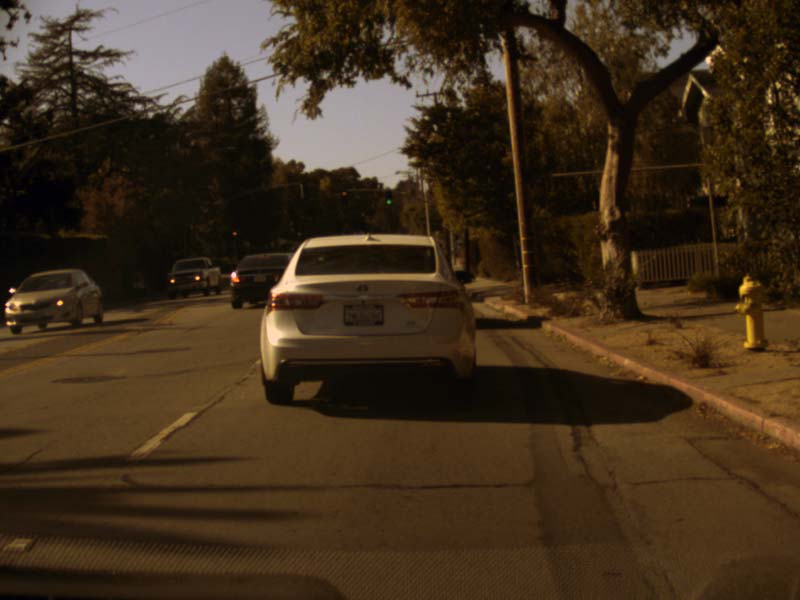Green: (384, 191, 392, 206)
Red: (340, 189, 349, 206), (231, 229, 238, 242)
